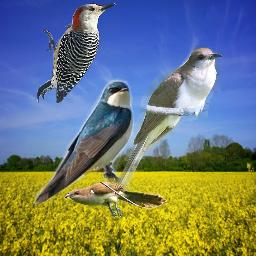Cuckoo: (107, 47, 222, 204), (64, 182, 167, 218)
Swallow: (30, 76, 138, 207)
Woodpecker: (37, 2, 117, 103)
